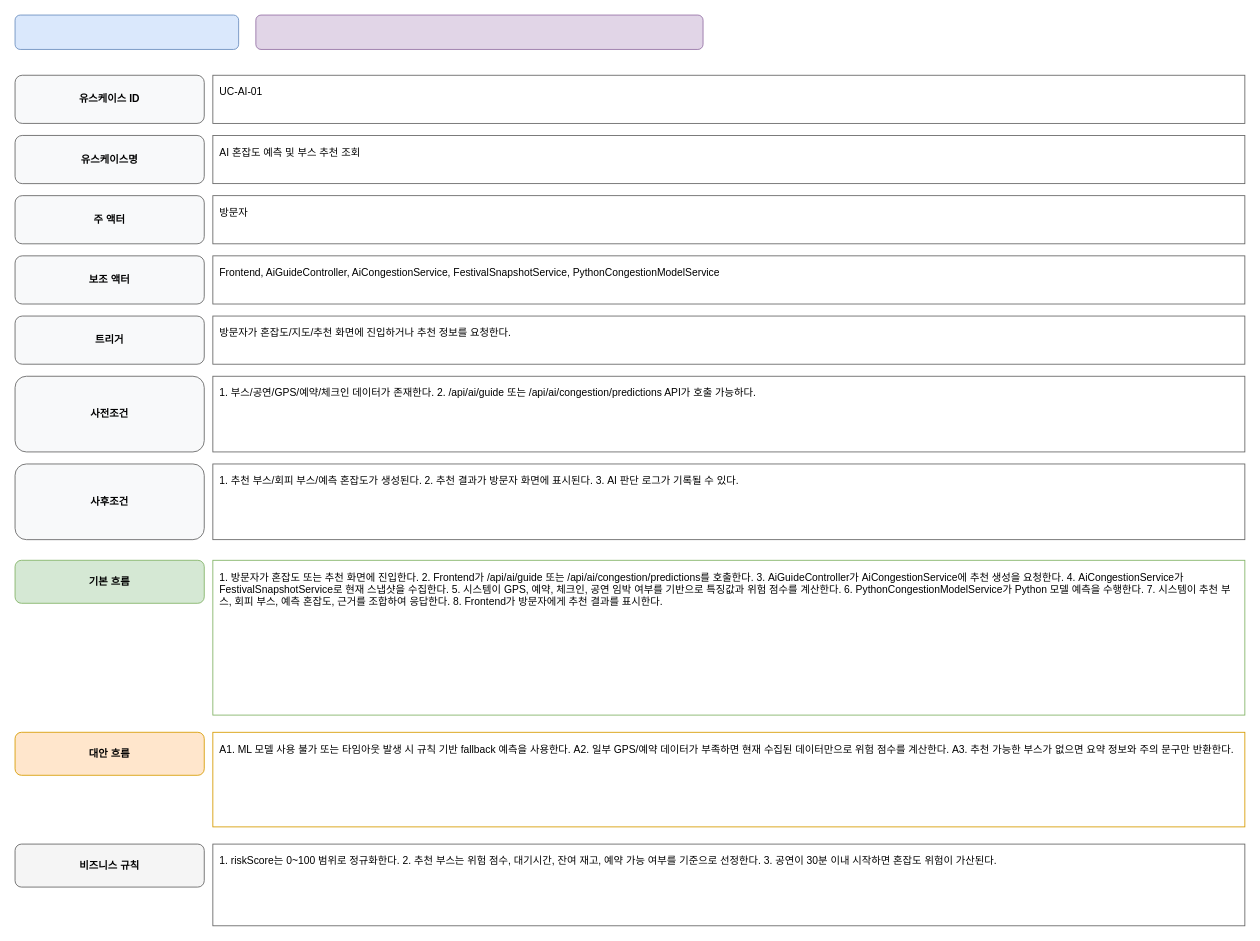
Image size: 1260x941. Some labels were removed from this diagram. The centre of each missing label's shape, as x and y in pixels:
기능: AI 혼잡도 예측 및 부스 추천: the point at 479,31
유스케이스 명세서: the point at 126,31
